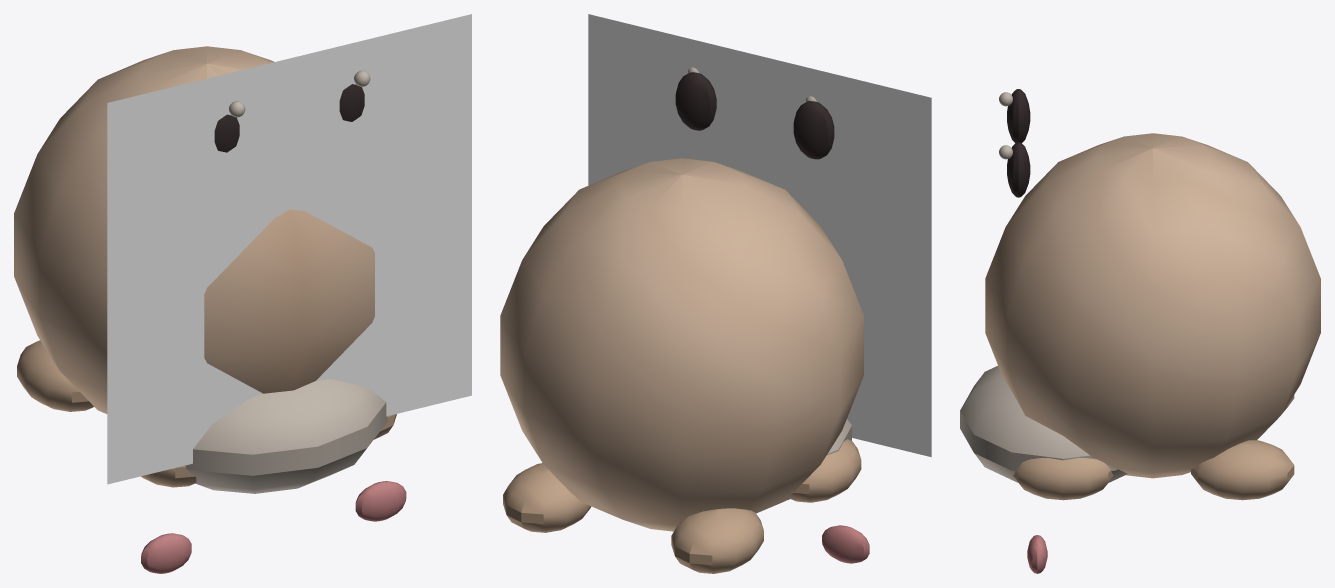
3 views of the same model, side by side, from view 1: azimuth 30°, elevation 25°; view 2: azimuth 150°, elevation 25°; view 3: azimuth 270°, elevation 25° (orthographic). The views are drawn at different scales.
Parts seen in each view (by area): view 1: pet_pa3e1918e; view 2: pet_pa3e1918e; view 3: pet_pa3e1918e.
Boxes of the visible parts, x1,y1,x2,y2 form: pet_pa3e1918e: (14, 14, 471, 573); pet_pa3e1918e: (500, 14, 931, 573); pet_pa3e1918e: (960, 89, 1320, 573).
Bounding box in the file's own units: 0.408 × 0.5342 × 0.4023.
